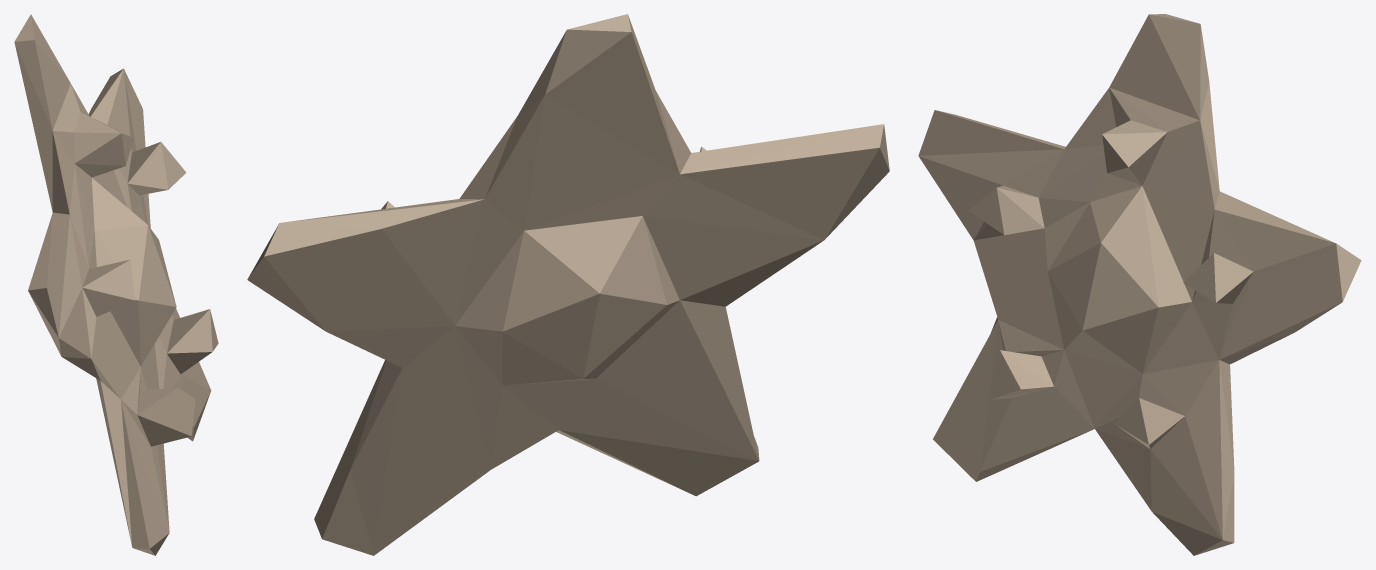
3 views of the same model, side by side, from view 1: azimuth 30°, elevation 25°; view 2: azimuth 150°, elevation 25°; view 3: azimuth 270°, elevation 25° (orthographic). The views are drawn at different scales.
Visible parts, largest first — view 1: part0; view 2: part0; view 3: part0.
Boxes of the visible parts, x1,y1,x2,y2 form: part0: (14,14,218,555); part0: (247,14,889,555); part0: (918,14,1361,555).
Bounding box in the file's own units: 7.48 × 10.39 × 9.16.
